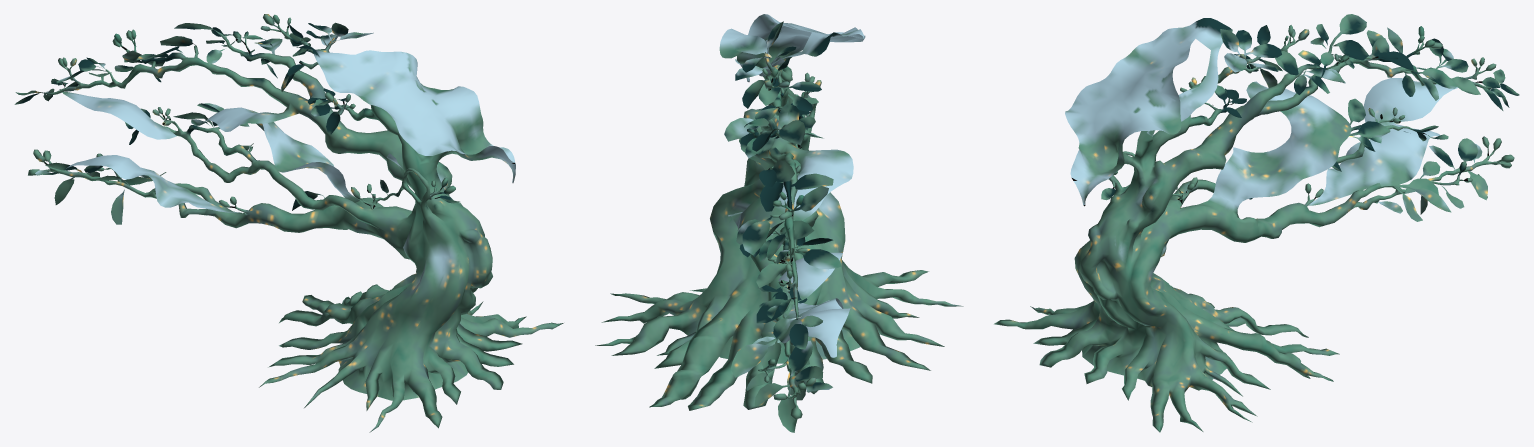
Rendered from rightgreentreesix.glb.
3 renders of one model, left to right at view 1: azimuth 30°, elevation 25°; view 2: azimuth 150°, elevation 25°; view 3: azimuth 270°, elevation 25°, orthographic. The views are drawn at different scales.
Parts seen in each view (by area): view 1: V15_clustered_tree_4__windswept; view 2: V15_clustered_tree_4__windswept; view 3: V15_clustered_tree_4__windswept.
Part boxes in pixels (x1=…): V15_clustered_tree_4__windswept: x1=14, y1=14, x2=563, y2=432; V15_clustered_tree_4__windswept: x1=595, y1=14, x2=963, y2=432; V15_clustered_tree_4__windswept: x1=994, y1=14, x2=1519, y2=432.
Bounding box in the file's own units: 3.2 × 2.72 × 4.02.
1 material, 1 textured.
